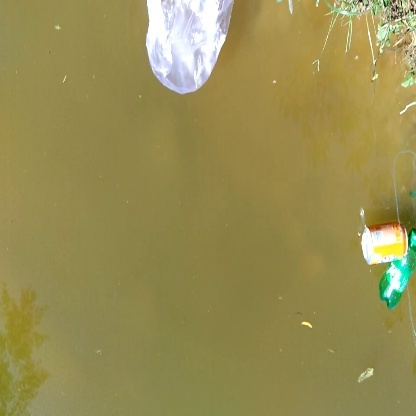bottle: (364, 217, 413, 272)
